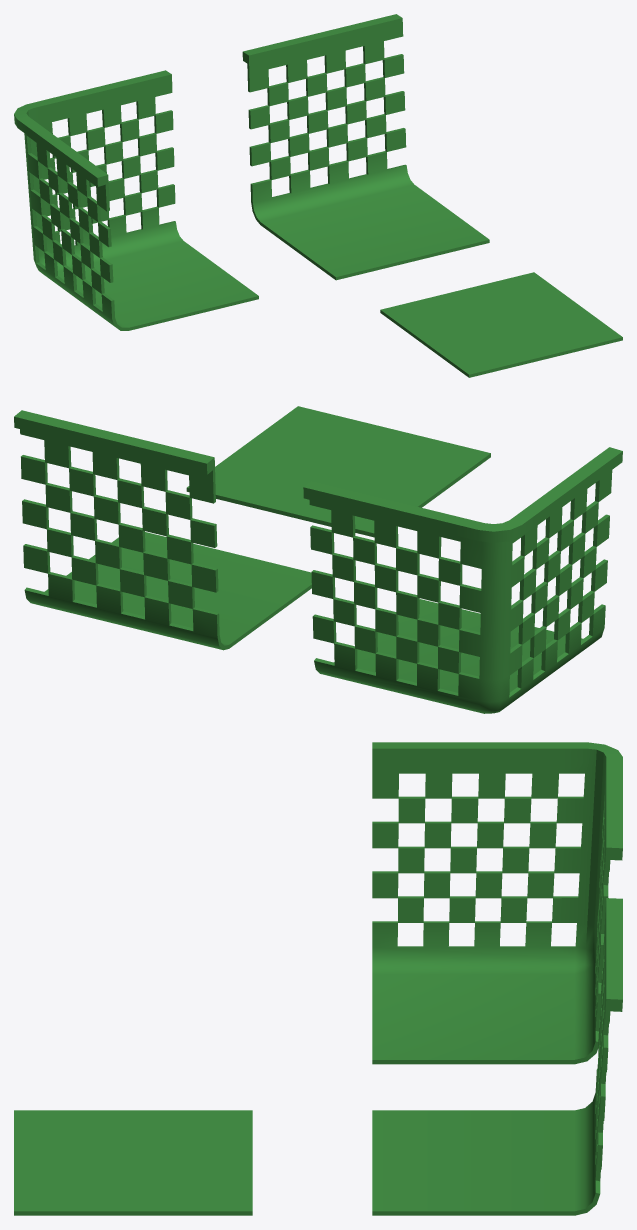
The model's file is TilemapCanasta.fbx.
3 views of the same model, one above another, from view 1: azimuth 30°, elevation 25°; view 2: azimuth 150°, elevation 25°; view 3: azimuth 270°, elevation 25° (orthographic). The views are drawn at different scales.
Parts seen in each view (by area): view 1: CanastaBorde, CanastaLateral, CanastaCentro; view 2: CanastaBorde, CanastaLateral, CanastaCentro; view 3: CanastaBorde, CanastaLateral, CanastaCentro.
Part boxes in pixels (box(x1,y1,x2,y2)): CanastaBorde: box(14, 70, 258, 330); CanastaLateral: box(242, 14, 489, 280); CanastaCentro: box(380, 272, 622, 377); CanastaBorde: box(303, 447, 622, 713); CanastaLateral: box(14, 410, 311, 650); CanastaCentro: box(186, 406, 490, 537); CanastaBorde: box(372, 742, 622, 1064); CanastaLateral: box(372, 898, 622, 1215); CanastaCentro: box(14, 1110, 252, 1215).
Bounding box in the file's own units: 510 × 200 × 510.
